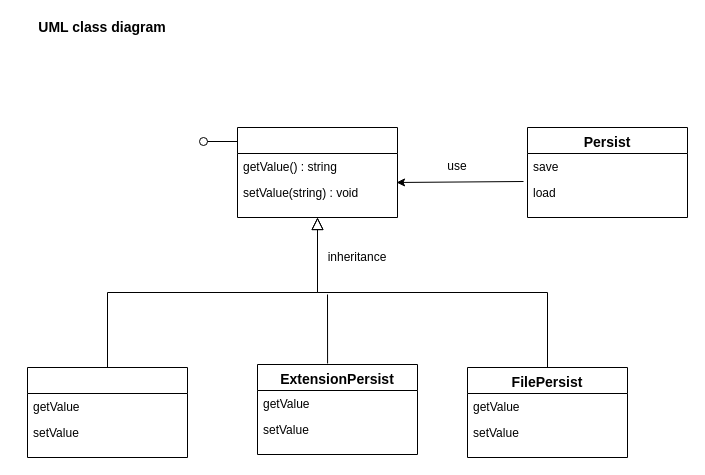
Image size: 705x475. Some labels were removed from this diagram. The shapes that lost their labels are listed below. From the top down, each one's box as (x1, y1, x2, y2) in pixels, then its label:
(236, 126, 398, 218): IPersistStorage
(26, 366, 188, 458): LocalStoragePersist
